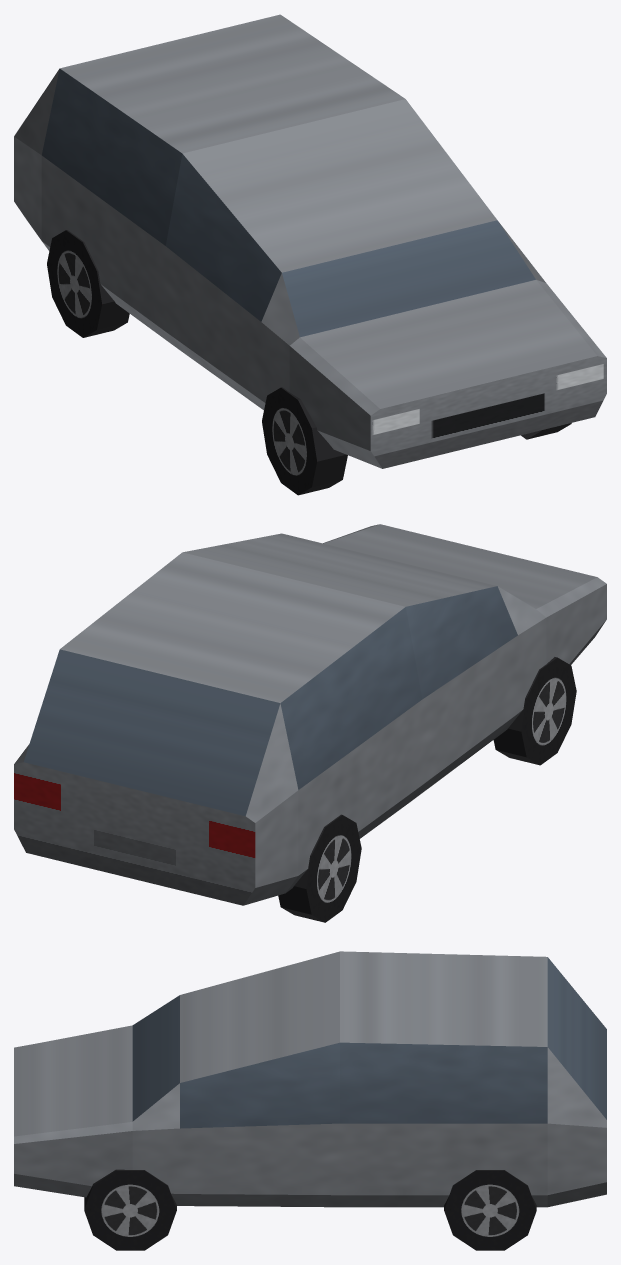
The model's file is SM_Morin_Auto_B_LOD1.fbx.
3 renders of one model, top to bottom at view 1: azimuth 30°, elevation 25°; view 2: azimuth 150°, elevation 25°; view 3: azimuth 270°, elevation 25°, orthographic. The views are drawn at different scales.
Visible parts, largest first — view 1: SM_Morin_Auto_B_LOD1; view 2: SM_Morin_Auto_B_LOD1; view 3: SM_Morin_Auto_B_LOD1.
Boxes of the visible parts, x1,y1,x2,y2 form: SM_Morin_Auto_B_LOD1: (14, 14, 606, 495); SM_Morin_Auto_B_LOD1: (14, 524, 606, 922); SM_Morin_Auto_B_LOD1: (14, 951, 606, 1250).
Bounding box in the file's own units: 184 × 435 × 162.
Materials: 1 (1 with a texture image).
